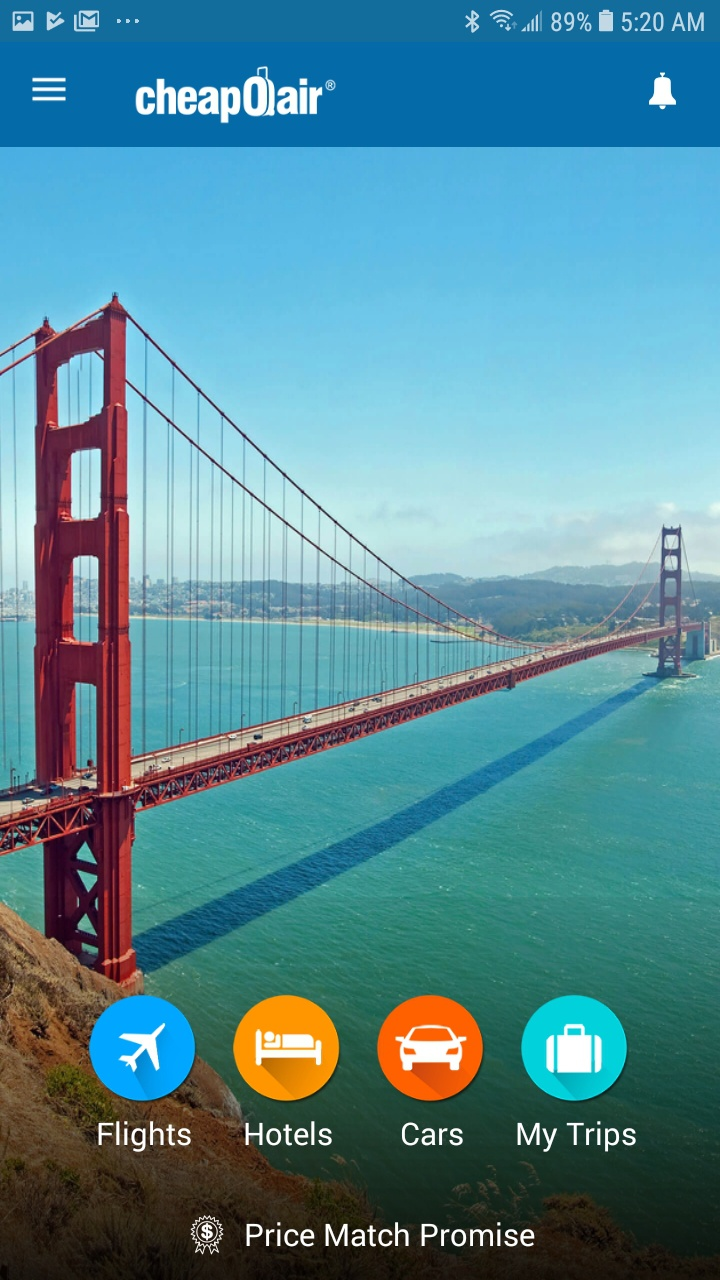BackgroundImage: (1, 148, 720, 1280)
Icon: (521, 995, 628, 1102), (648, 72, 677, 111), (31, 76, 68, 103)
Image: (135, 66, 338, 125), (89, 994, 196, 1102), (233, 995, 341, 1102), (377, 995, 484, 1102), (191, 1214, 225, 1255)
Text: (245, 1221, 535, 1248), (516, 1120, 637, 1153), (98, 1120, 192, 1153), (245, 1120, 333, 1147), (402, 1121, 464, 1147)
UpperTaskBar: (1, 1, 720, 43)
